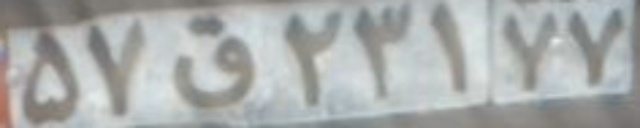1: (425, 3, 467, 93)
2: (284, 11, 342, 107)
3: (353, 2, 407, 97)
5: (20, 32, 79, 124)
7: (85, 16, 150, 117), (566, 9, 628, 87), (501, 10, 556, 92)
ghaf: (171, 14, 257, 110)
